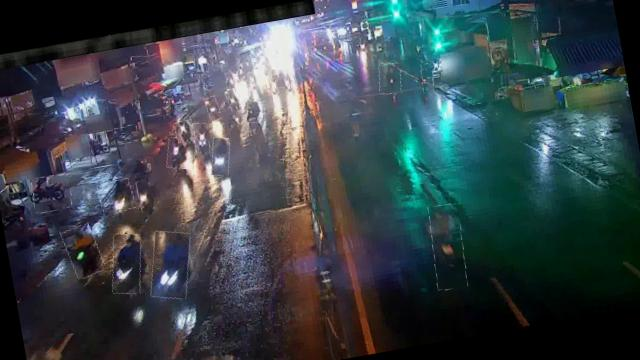Bike: (425, 203, 470, 291), (144, 228, 197, 302), (106, 229, 148, 296), (62, 222, 106, 279), (30, 172, 74, 214), (98, 178, 136, 215), (164, 134, 199, 172), (208, 136, 234, 176), (376, 61, 404, 96), (106, 124, 140, 146), (137, 179, 159, 213), (192, 122, 212, 156), (173, 118, 196, 144), (245, 99, 268, 125), (419, 64, 435, 93), (205, 96, 222, 121), (226, 88, 242, 112)
